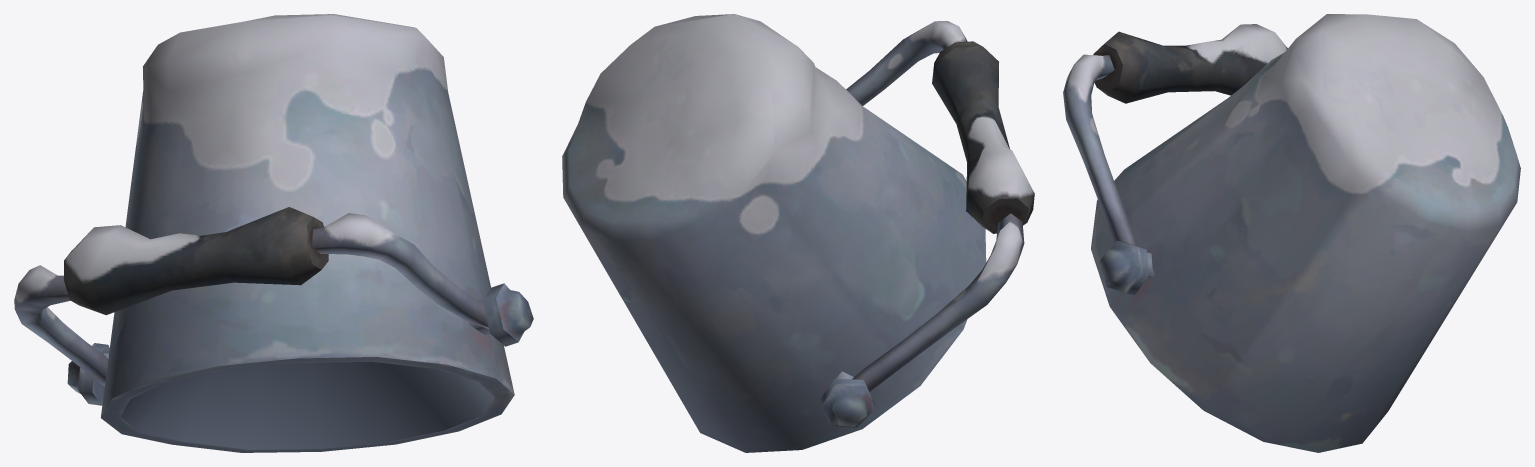
Rendered from Homeworld_Exterior_Common_Prop_Thing_SnowmanHat_01_Vo.fbx.
3 renders of one model, left to right at view 1: azimuth 30°, elevation 25°; view 2: azimuth 150°, elevation 25°; view 3: azimuth 270°, elevation 25°, orthographic. The views are drawn at different scales.
Visible parts, largest first — view 1: Homeworld_Exterior_Common_Prop_Thing_SnowmanHat_01_Vo; view 2: Homeworld_Exterior_Common_Prop_Thing_SnowmanHat_01_Vo; view 3: Homeworld_Exterior_Common_Prop_Thing_SnowmanHat_01_Vo.
Boxes of the visible parts, box(x1,y1,x2,y2) form: Homeworld_Exterior_Common_Prop_Thing_SnowmanHat_01_Vo: box(14, 14, 533, 452); Homeworld_Exterior_Common_Prop_Thing_SnowmanHat_01_Vo: box(562, 14, 1034, 452); Homeworld_Exterior_Common_Prop_Thing_SnowmanHat_01_Vo: box(1063, 14, 1520, 452).
Size of the model in its own units: 0.7731 by 0.7518 by 0.7703.
